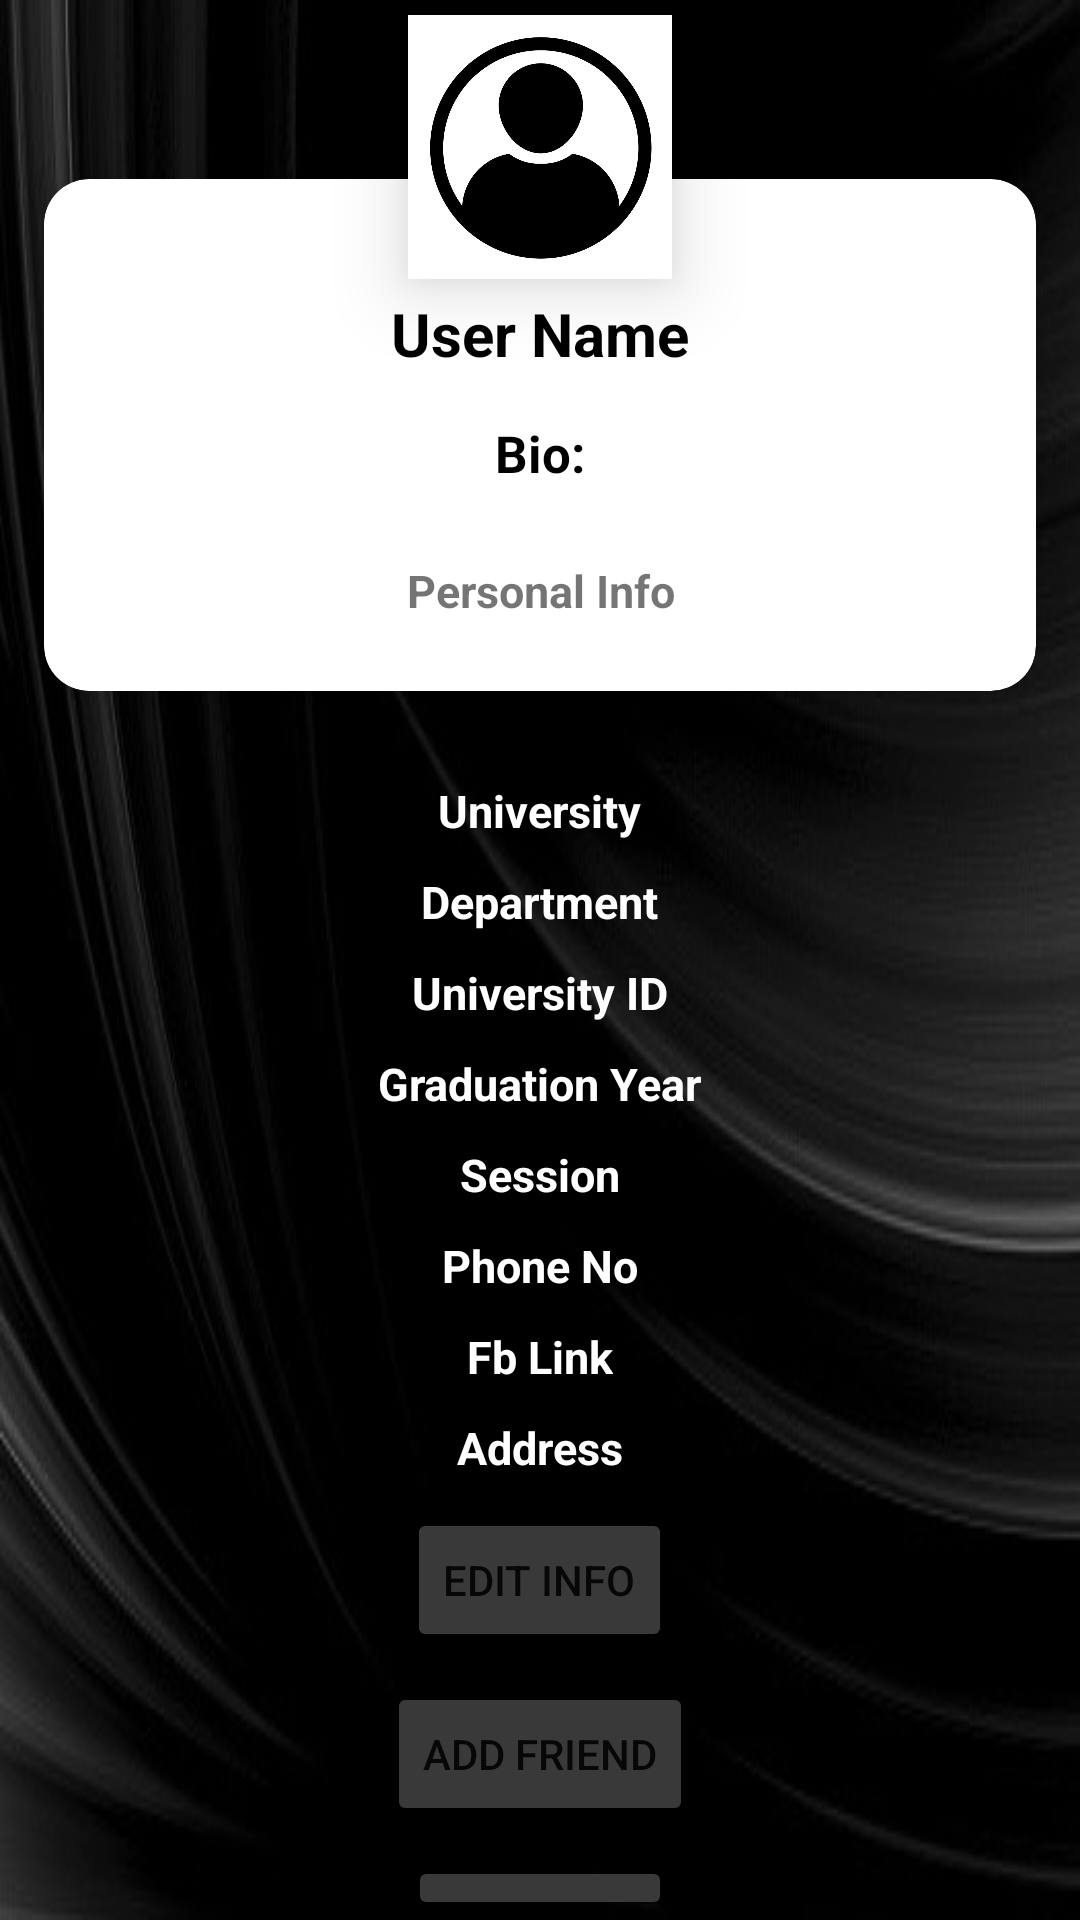

Screen size 1080x1920. Icon name, then its center in pixels as [x,y]:
profile: [540,147]
